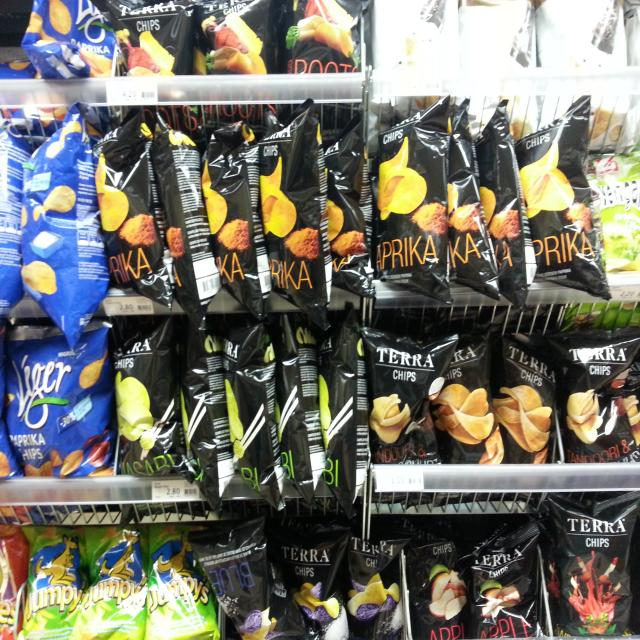Chips: (505, 103, 612, 306), (17, 102, 102, 331), (94, 308, 195, 488), (88, 115, 178, 310), (373, 108, 455, 312), (11, 311, 105, 484), (252, 115, 331, 309), (200, 111, 271, 310), (545, 513, 640, 640), (145, 515, 232, 640), (357, 324, 433, 462), (559, 332, 640, 459), (455, 533, 549, 640), (425, 329, 500, 463), (494, 334, 555, 462), (26, 1, 113, 80), (103, 0, 196, 72), (278, 0, 368, 73), (191, 1, 277, 76), (341, 534, 400, 640)
